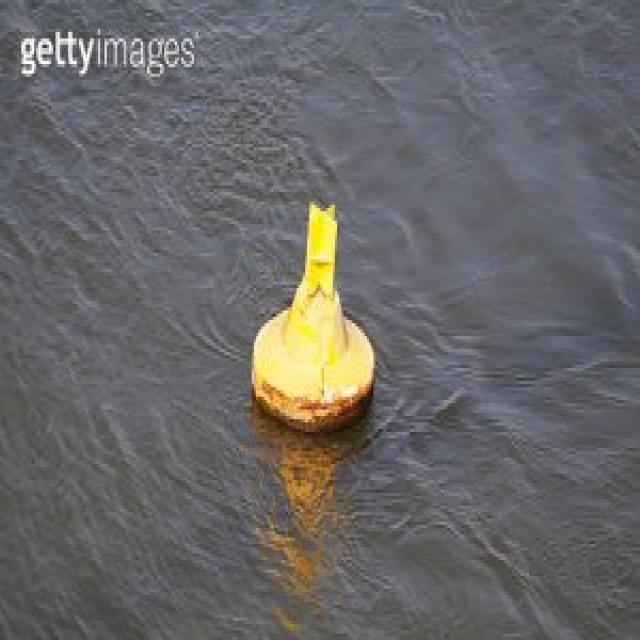marque: (231, 173, 387, 442)
